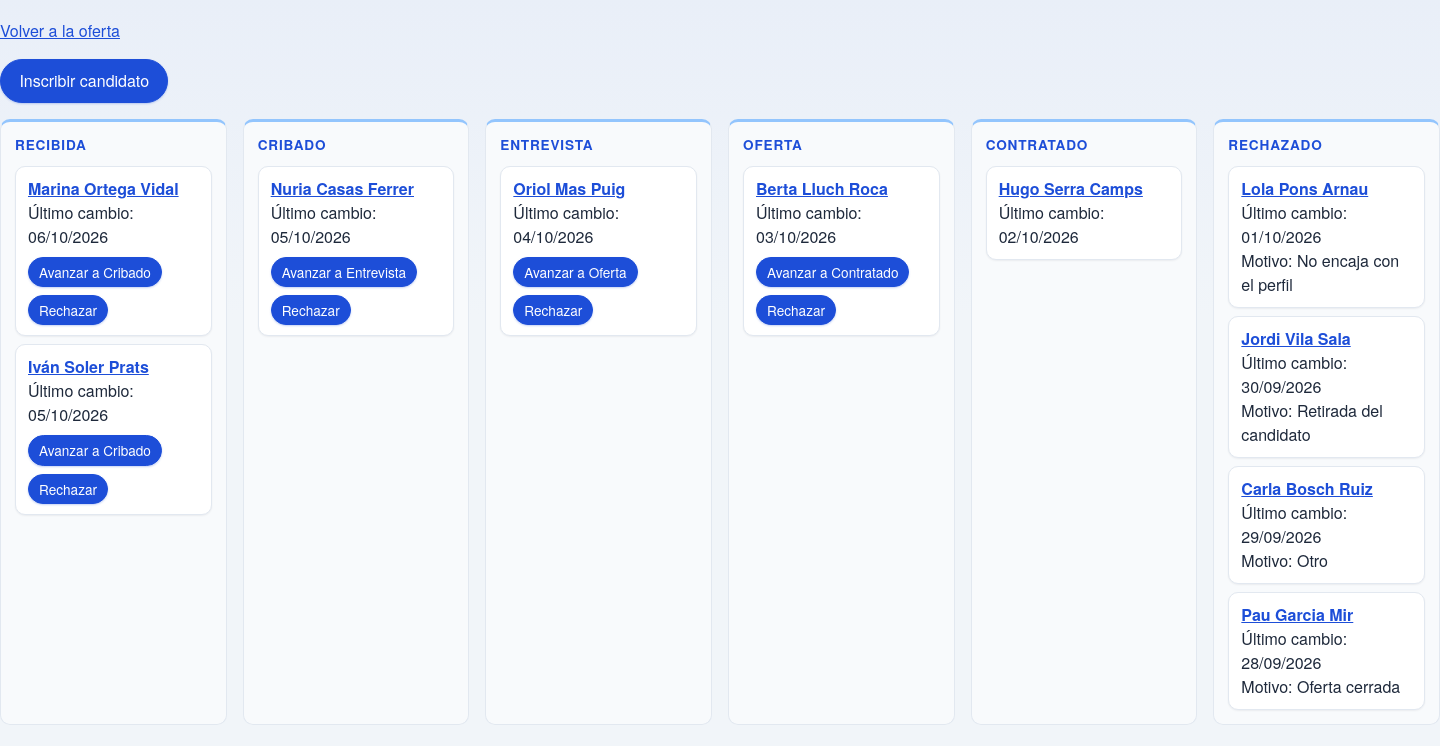
Test: PipelineScreen: panel y búsqueda (RF-08) › una búsqueda nueva aborta la anterior y solo pinta la última respuesta
The width and height of the screenshot is (1440, 746).
What coordinates should you click on to do the following:
click the button "Inscribir candidato"
I would click on:
 (84, 81)
Its box is [0,59,168,103].
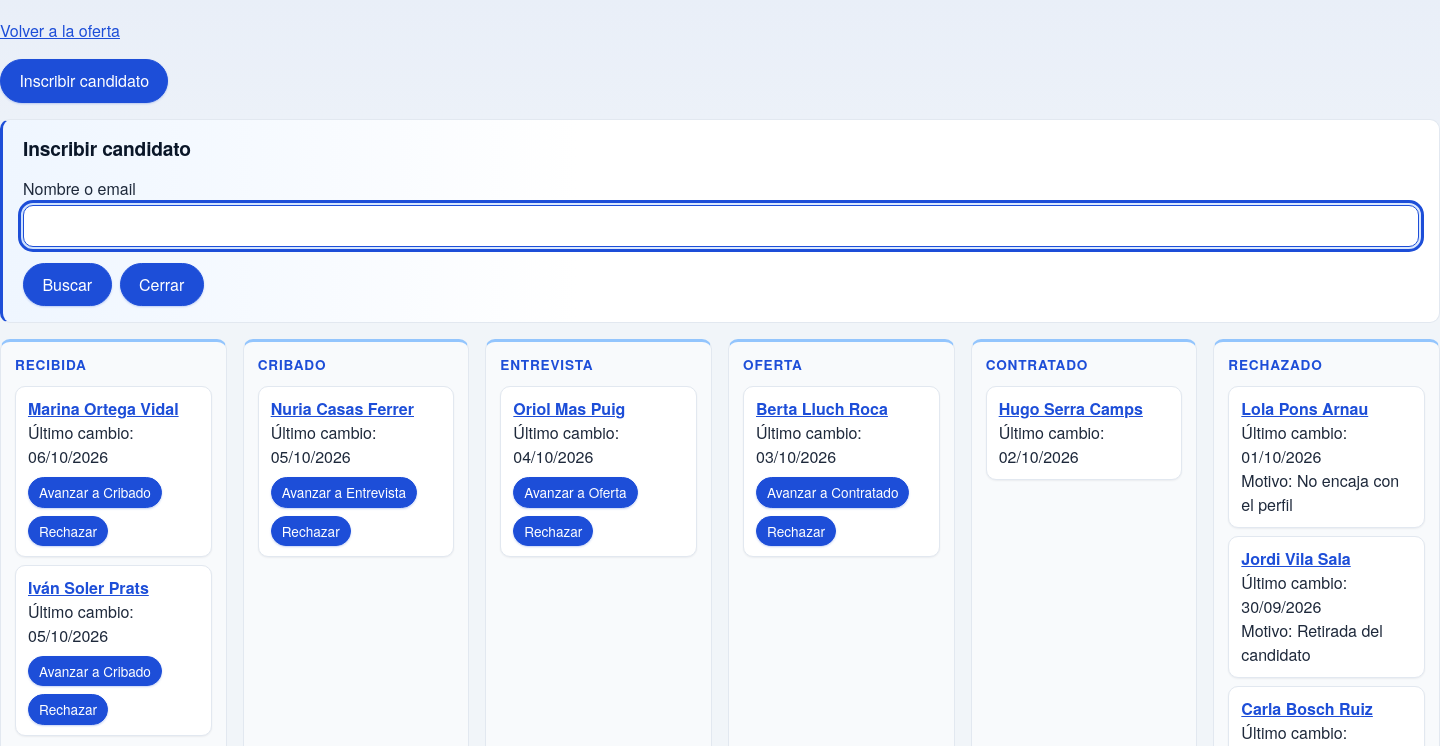
What coordinates should you click on to do the following:
click the button "Buscar"
I would click on:
 (67, 285)
Its box is [23,263,112,306].
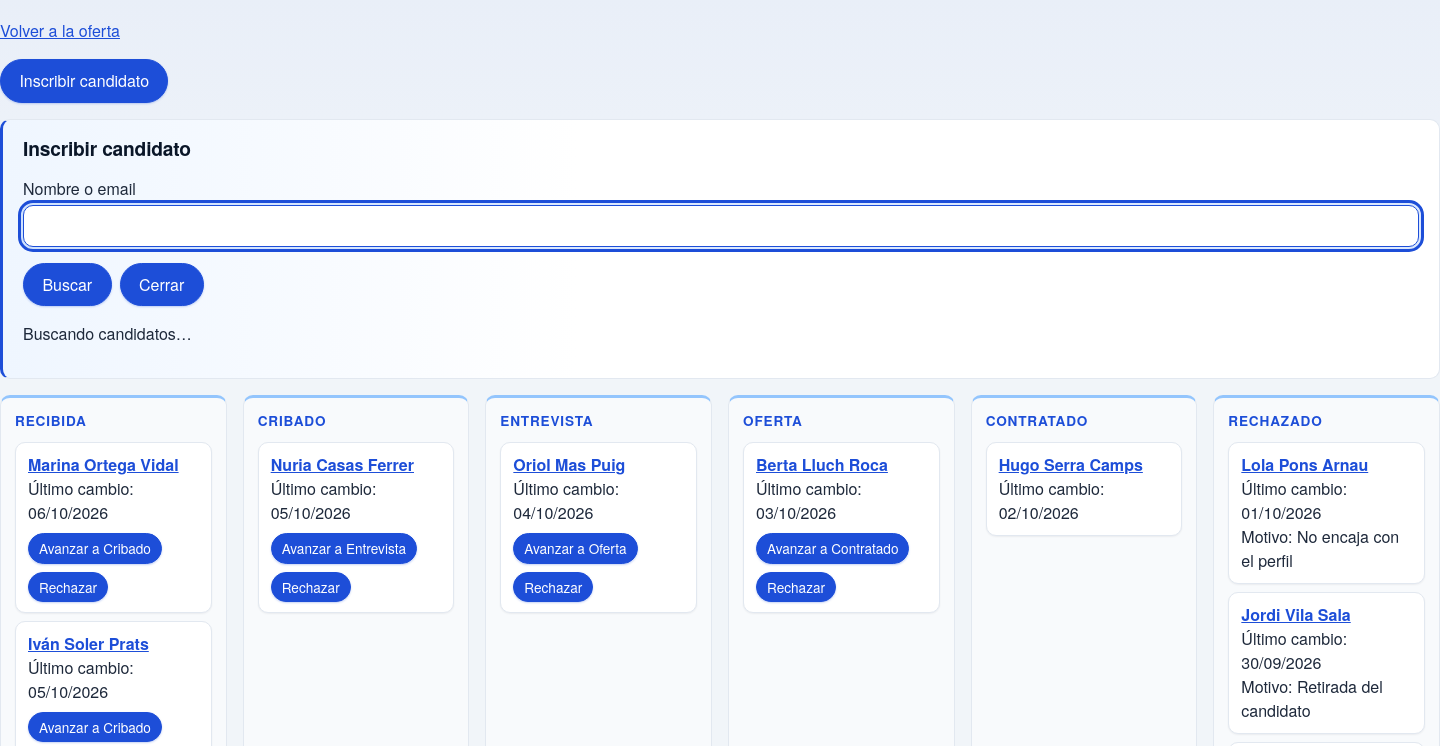
Expected: the message reads "Buscando candidatos…", [23,322,192,346]
What coordinates should you click on to do the following:
click the button "Buscar"
I would click on:
 (67, 285)
Its box is [23,263,112,306].
(page scrolled)
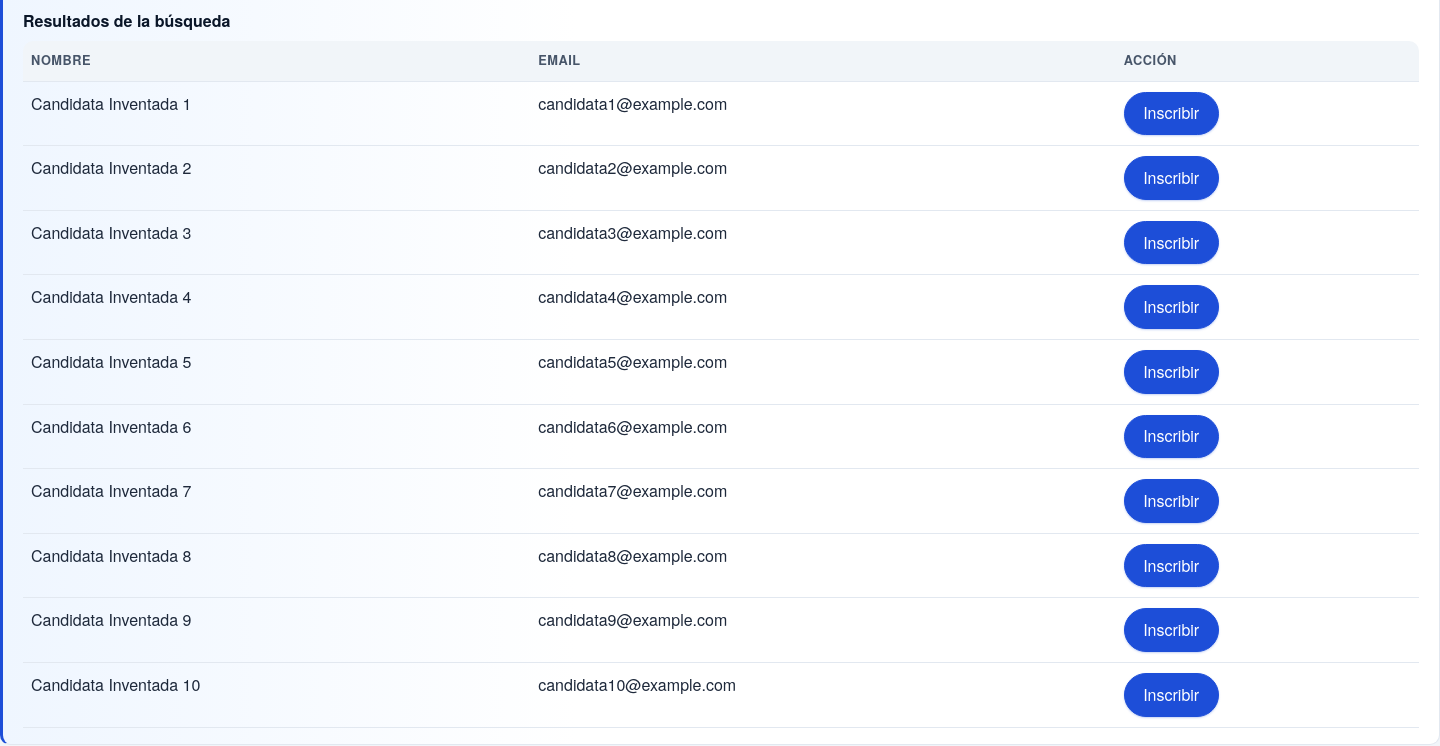
Expected: the table is shown
Expected: the text "Buscando candidatos…" is gone
